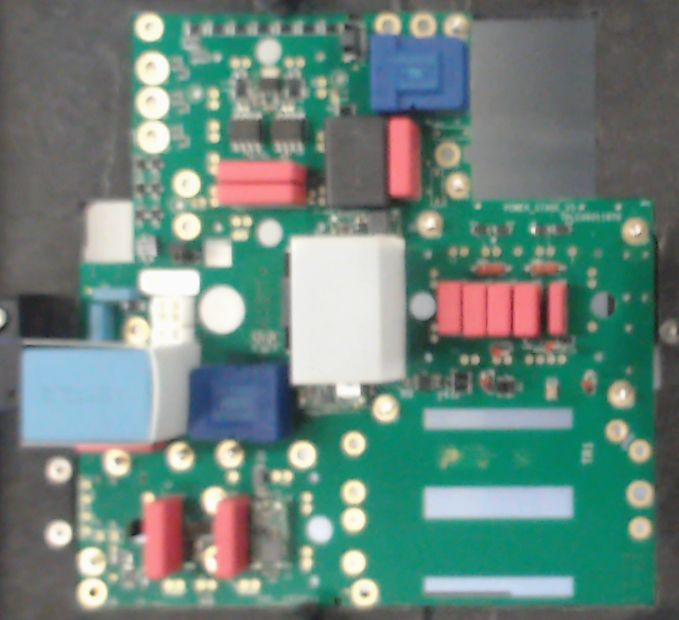comp1: (368, 31, 470, 117), (189, 365, 291, 442)
comp2: (143, 498, 185, 577), (388, 116, 420, 205), (216, 495, 250, 577), (215, 184, 309, 207), (216, 161, 305, 184), (485, 279, 513, 339), (512, 279, 540, 339), (436, 279, 462, 337), (461, 280, 485, 338), (548, 281, 567, 338)
comp3: (322, 114, 391, 209)
comp4: (19, 338, 197, 445), (289, 235, 408, 384)
